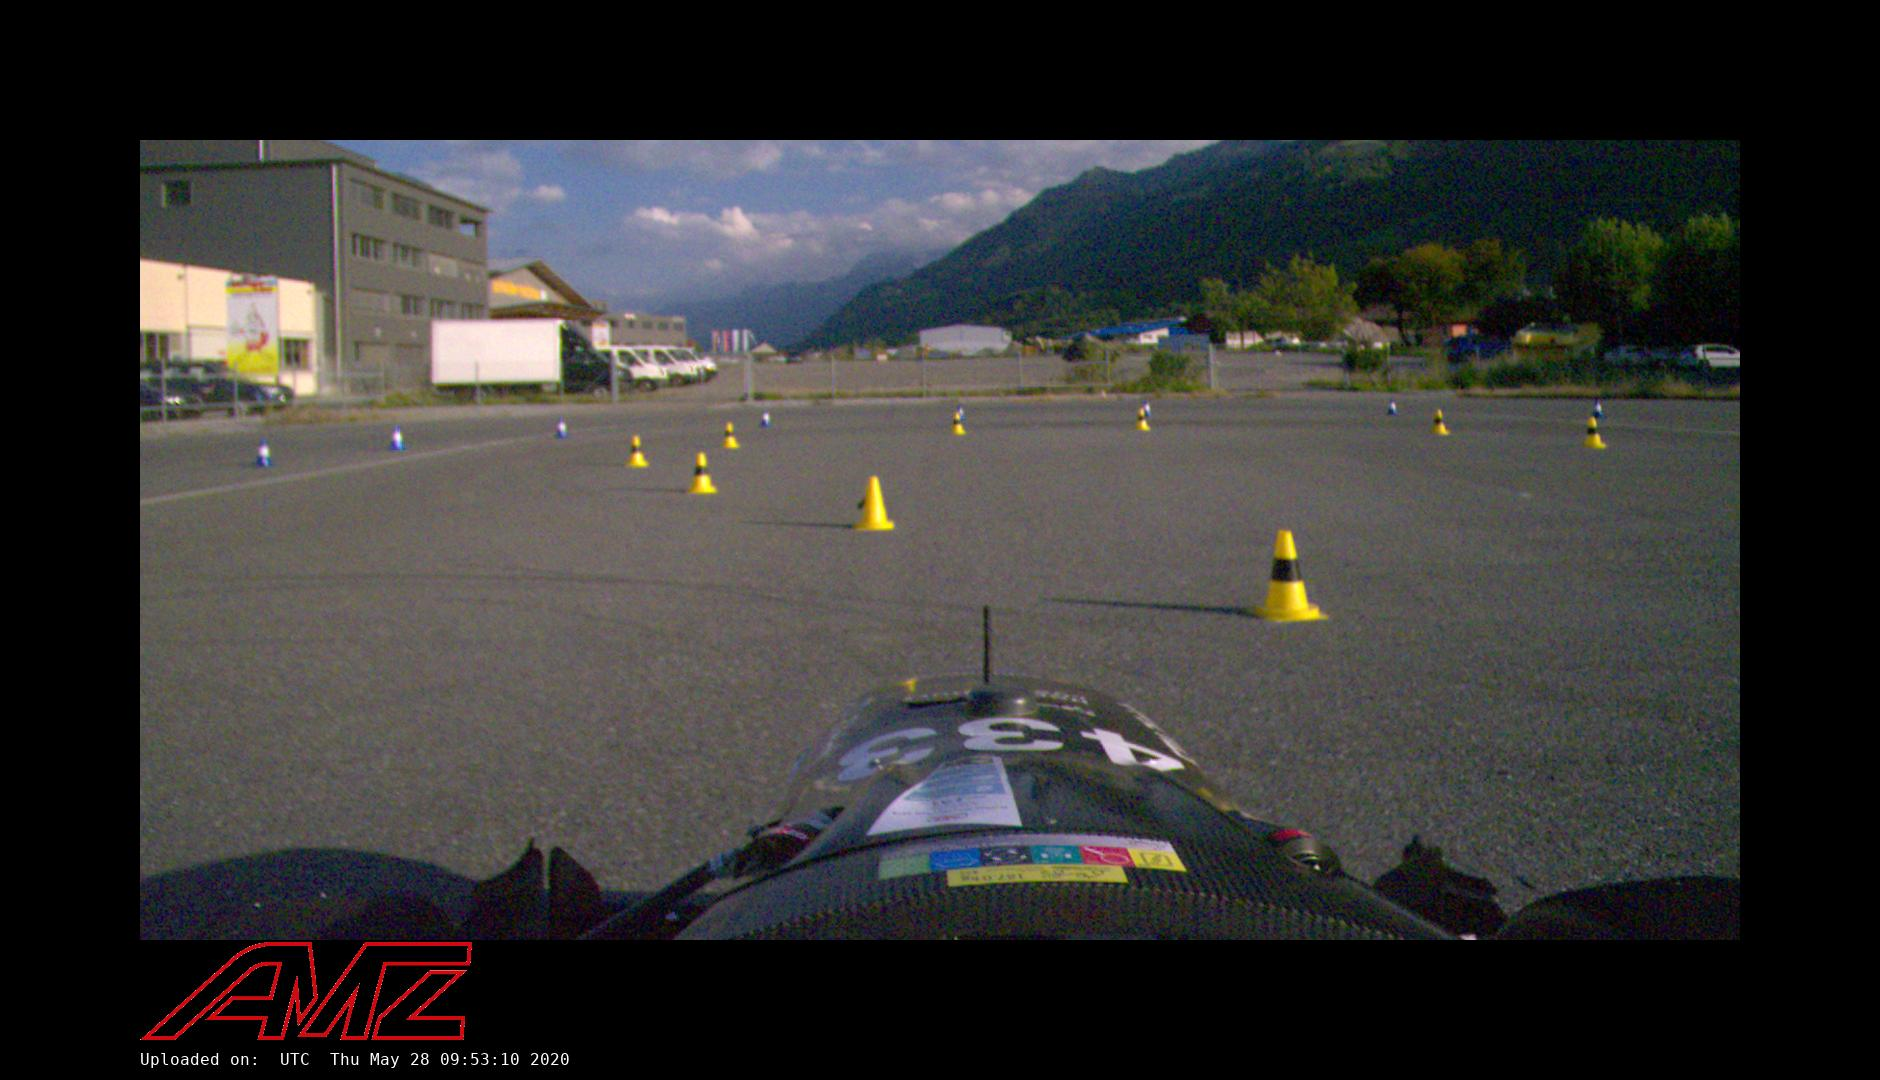blue_cone: (255, 440, 276, 467), (389, 426, 406, 450), (554, 418, 570, 438), (760, 410, 772, 427), (1593, 400, 1604, 417), (1388, 399, 1398, 415), (957, 404, 966, 420), (1143, 400, 1152, 416)
yellow_cone: (1247, 531, 1328, 622), (852, 477, 894, 530), (684, 452, 717, 494), (625, 436, 649, 467), (1584, 417, 1607, 449), (721, 422, 740, 448), (948, 412, 967, 436), (1431, 410, 1449, 435), (1134, 408, 1150, 431)
